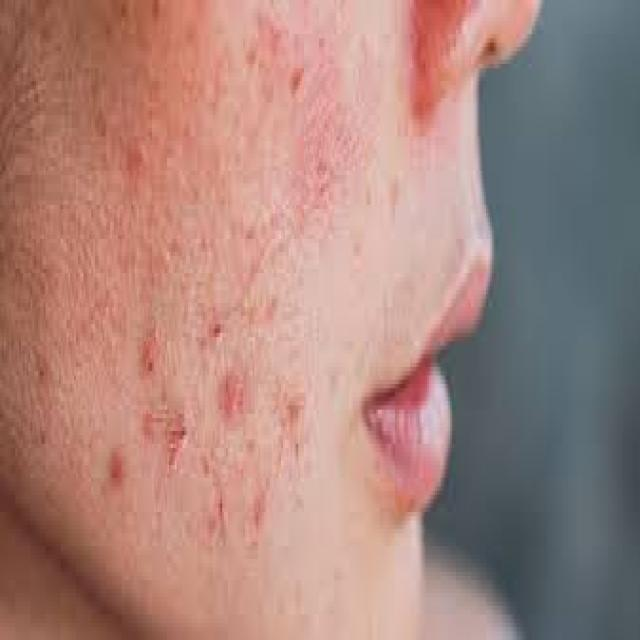Acne: (294, 97, 358, 237), (217, 363, 247, 428), (164, 406, 192, 475), (140, 315, 164, 381), (207, 488, 230, 546), (124, 130, 150, 181), (106, 438, 128, 494), (250, 480, 270, 538), (140, 398, 160, 448), (207, 312, 227, 354)
